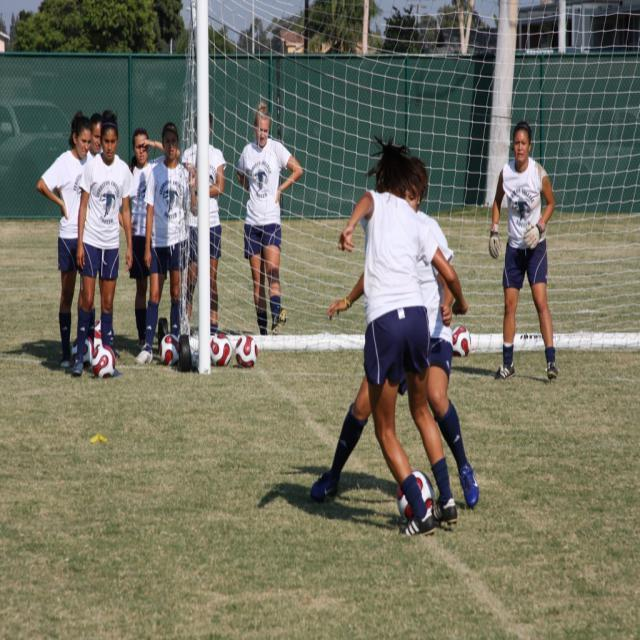football: (386, 471, 443, 522), (211, 330, 264, 372), (82, 343, 122, 388), (148, 334, 185, 368)
